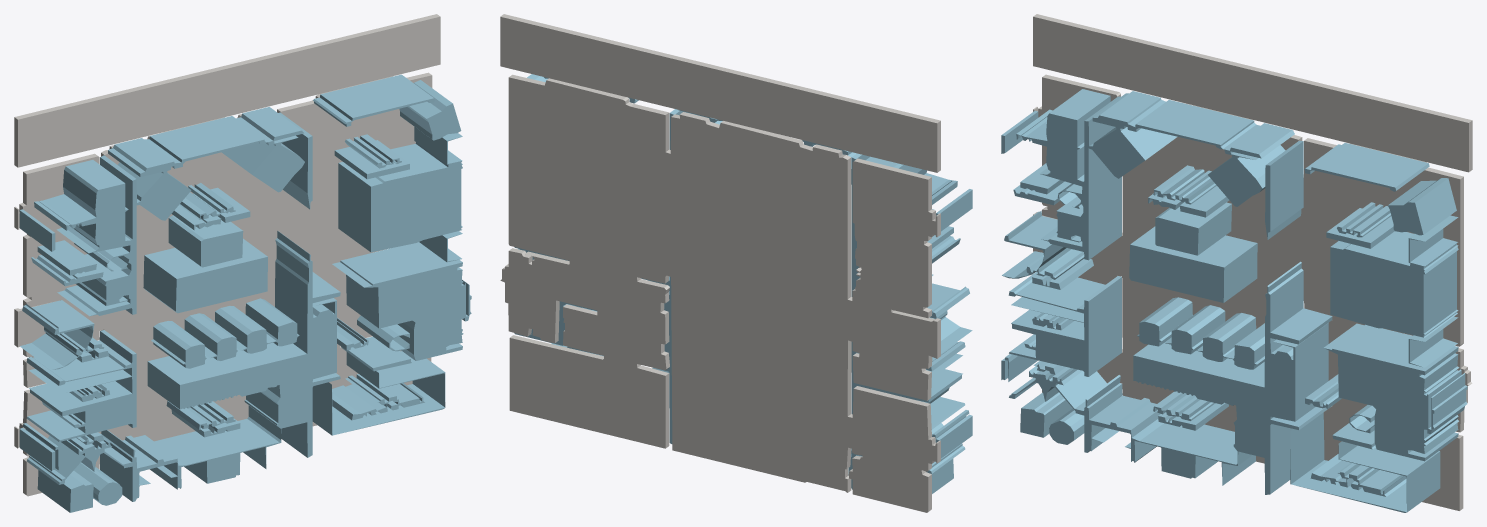
3 views of the same model, side by side, from view 1: azimuth 30°, elevation 25°; view 2: azimuth 150°, elevation 25°; view 3: azimuth 330°, elevation 25° (orthographic). The views are drawn at different scales.
Visible parts, largest first — view 1: world; view 2: world; view 3: world.
Boxes of the visible parts, bbox=[...] form: world: bbox=[14, 14, 471, 512]; world: bbox=[500, 14, 972, 512]; world: bbox=[1001, 14, 1472, 512].
Size of the model in its own units: 10.23 by 8.77 by 1.51.
